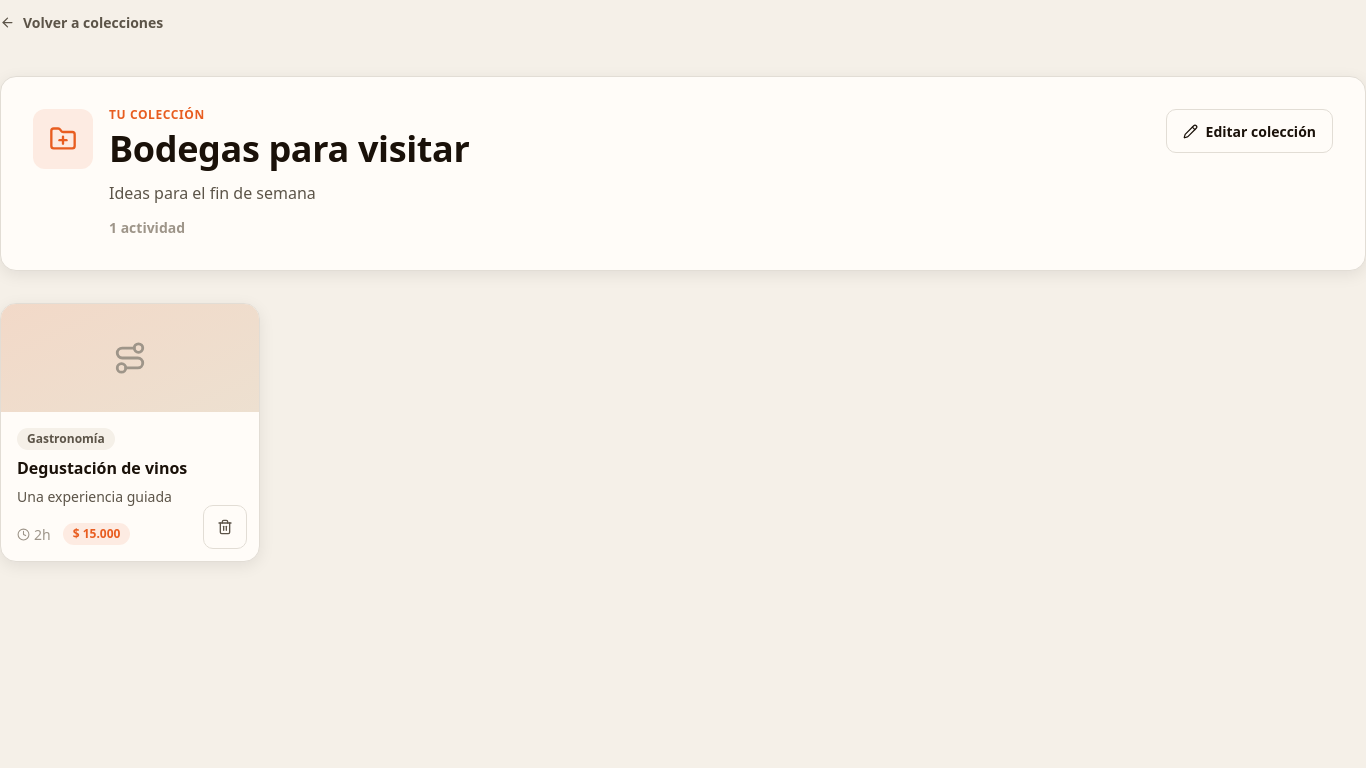
Test: CollectionDetailView › removes the membership and updates the empty state (CU36)
The width and height of the screenshot is (1366, 768).
Click the button named "Quitar Degustación de vinos de la colección": [225, 528] box [203,506,247,550]
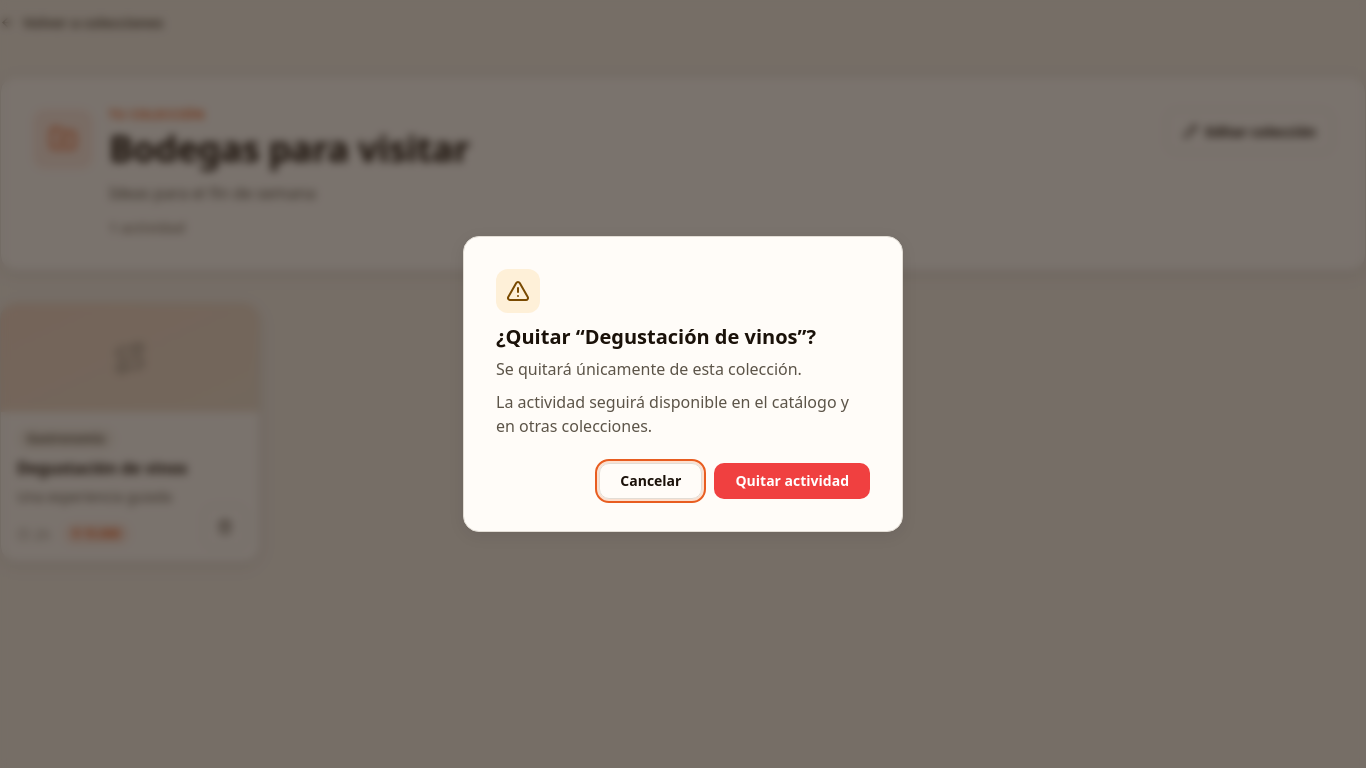
Click the button "Quitar actividad": [792, 481] box [714,463,870,499]
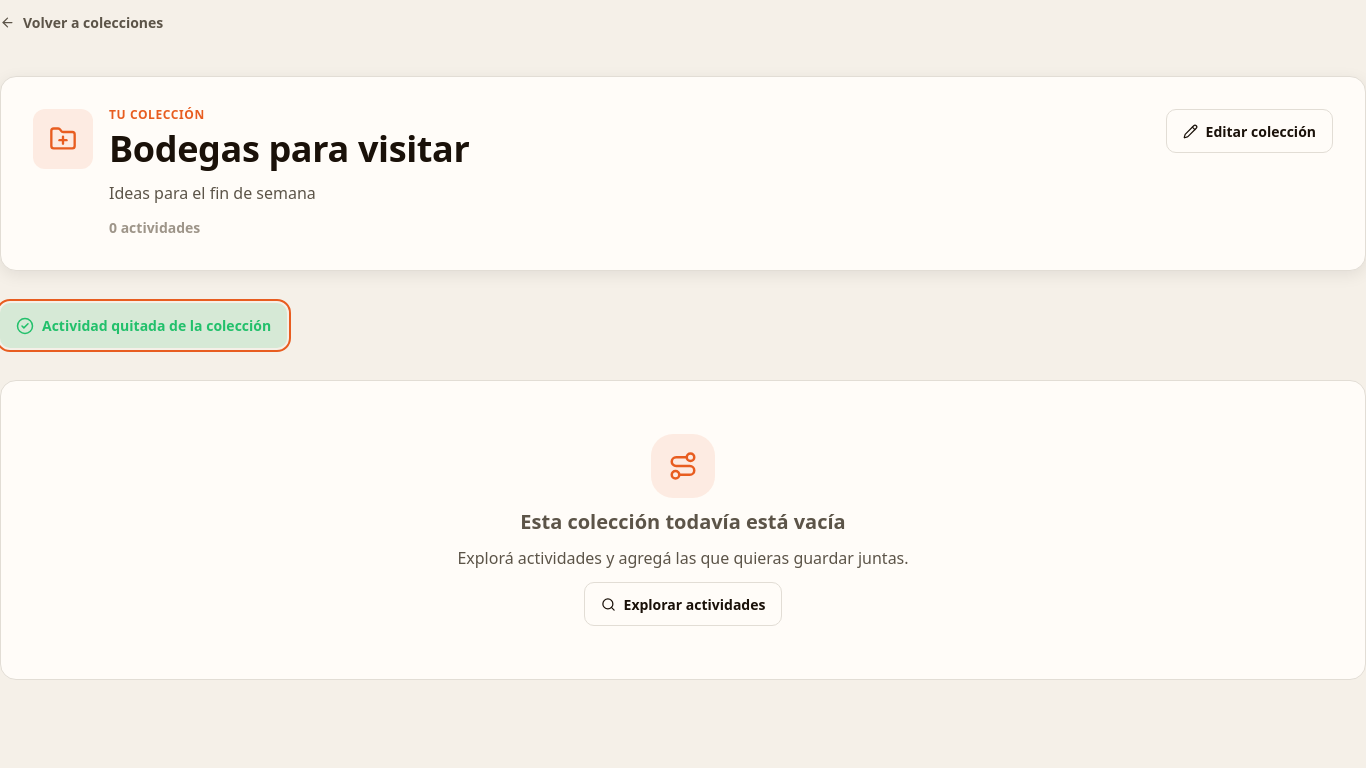
Expected: the text "Actividad quitada de la colección" is shown, [0,303,287,348]
Expected: the heading "Esta colección todavía está vacía" is shown, [520,510,846,534]
